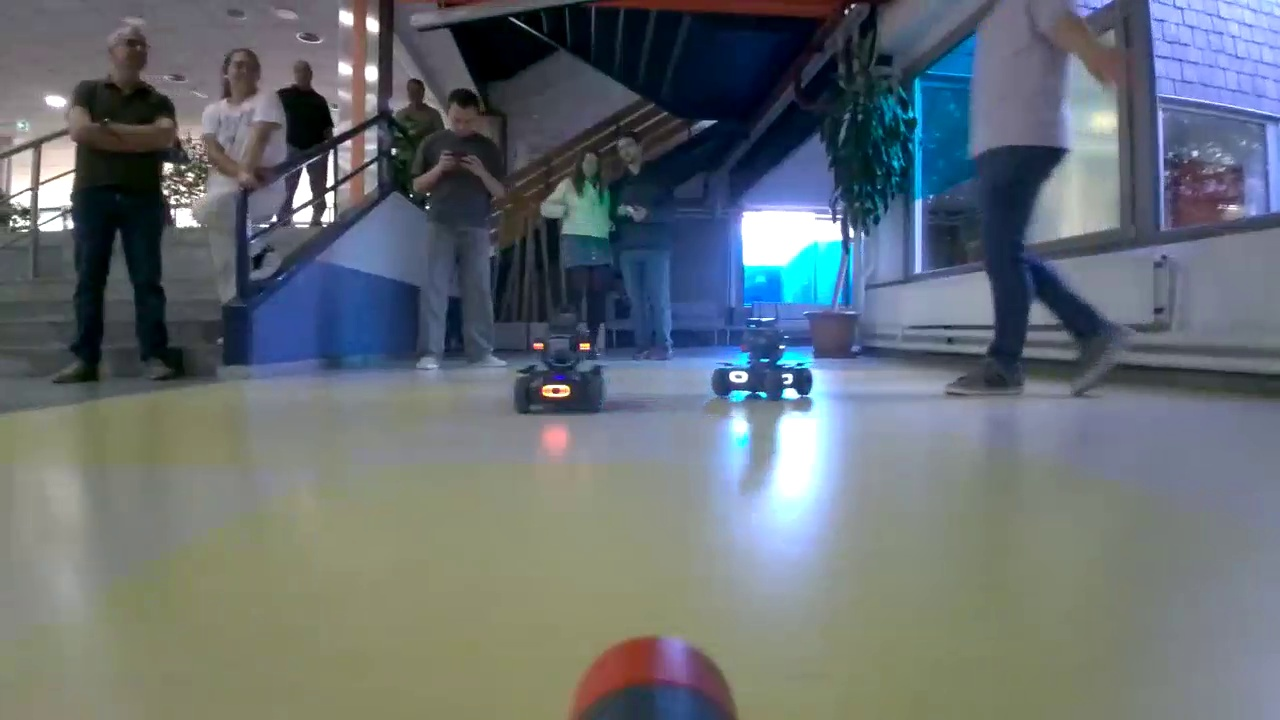robot: (708, 322, 818, 404), (520, 334, 606, 414)
